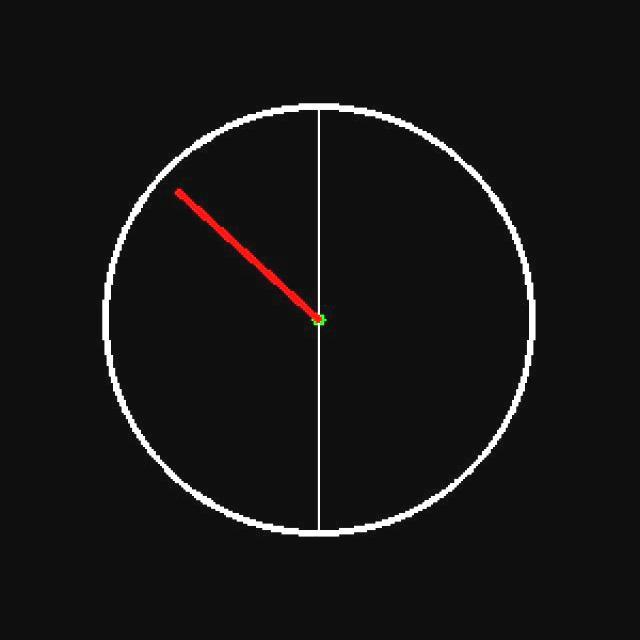Needle_Tip: (158, 172, 209, 214)
Needle_base: (282, 291, 355, 346)
